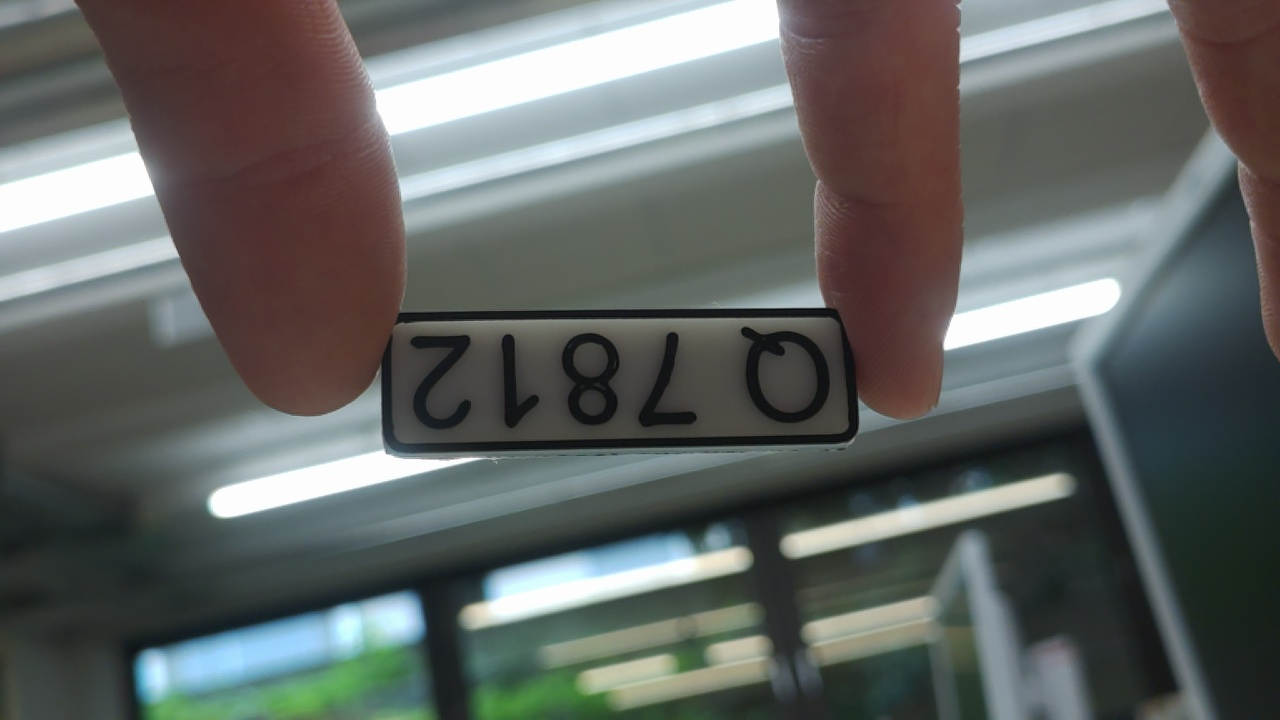license_plate: (374, 299, 867, 465)
